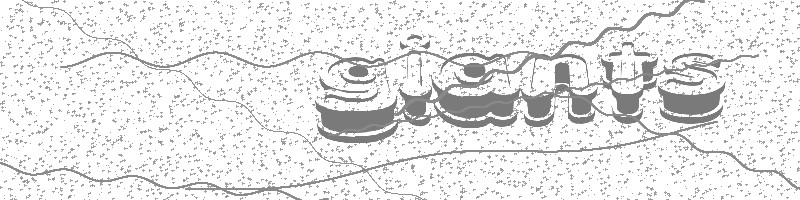a: (431, 50, 520, 129)
g: (312, 54, 400, 145)
i: (399, 26, 434, 129)
n: (521, 51, 600, 124)
s: (660, 50, 723, 125)
t: (601, 40, 658, 123)
